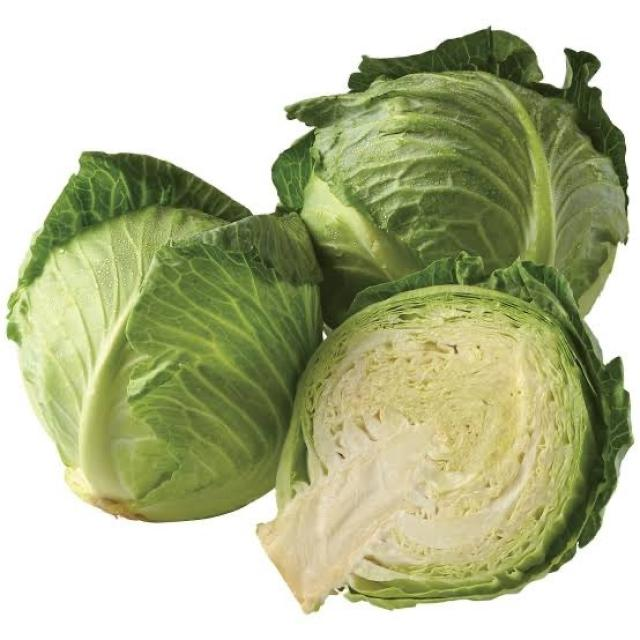cabbage: (238, 11, 635, 340), (273, 296, 615, 610), (13, 149, 298, 519)
